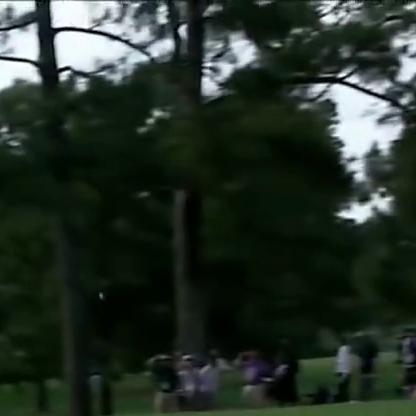golfball: (96, 289, 103, 299)
